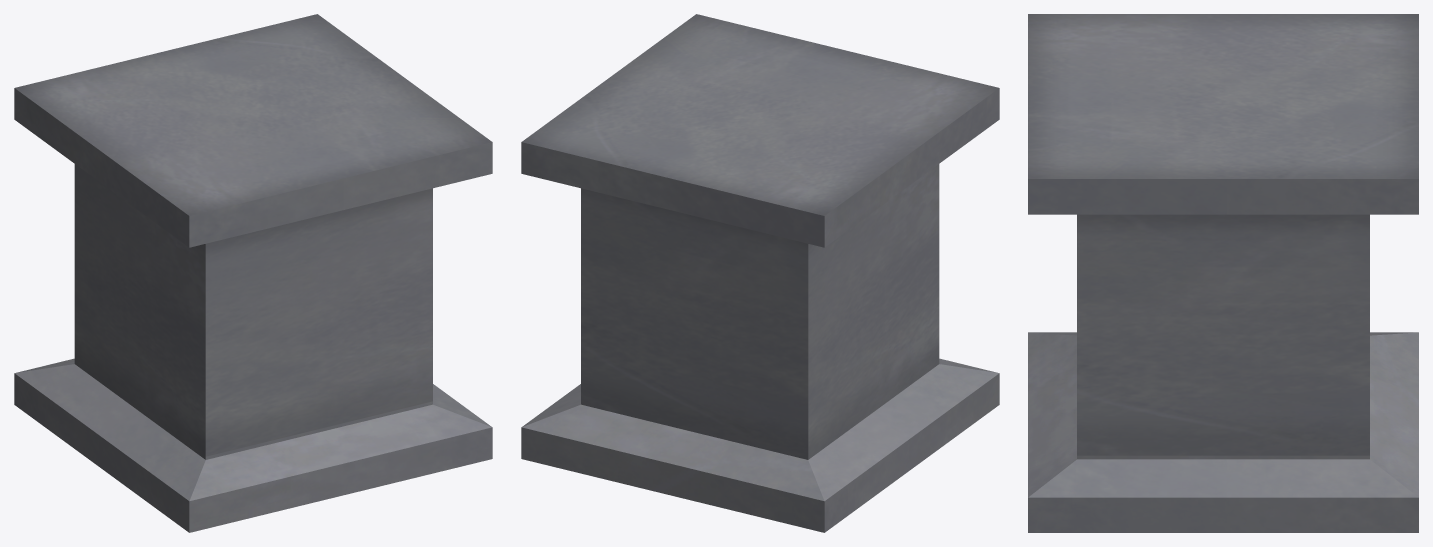
File: Pedestal.001.fbx
3 views of the same model, side by side, from view 1: azimuth 30°, elevation 25°; view 2: azimuth 150°, elevation 25°; view 3: azimuth 270°, elevation 25° (orthographic). The views are drawn at different scales.
Visible parts, largest first — view 1: Pedestal.001; view 2: Pedestal.001; view 3: Pedestal.001.
Boxes of the visible parts, box(x1,y1,x2,y2) form: Pedestal.001: box(14, 14, 492, 532); Pedestal.001: box(521, 14, 999, 532); Pedestal.001: box(1028, 14, 1418, 532).
Bounding box in the file's own units: 100 × 100 × 100.
